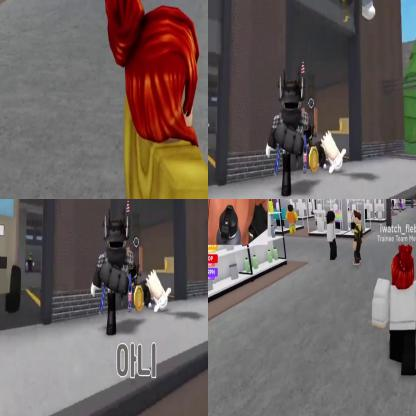Roblox-Avatar: (105, 1, 208, 199), (267, 67, 313, 197), (92, 206, 138, 336), (372, 244, 416, 378), (320, 132, 347, 175), (145, 271, 172, 314), (328, 211, 338, 262), (354, 210, 363, 266), (287, 205, 299, 235), (399, 200, 404, 215), (392, 200, 396, 216)
